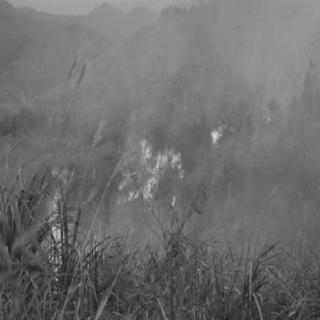Fire: (104, 119, 196, 209), (42, 145, 74, 279)
